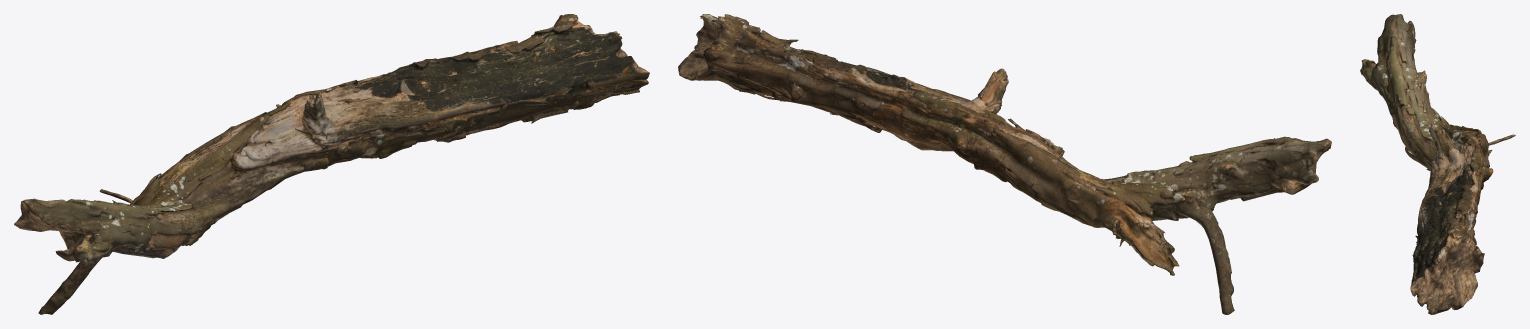
Rendered from dead_tree_trunk_02.glb.
3 renders of one model, left to right at view 1: azimuth 30°, elevation 25°; view 2: azimuth 150°, elevation 25°; view 3: azimuth 270°, elevation 25°, orthographic. The views are drawn at different scales.
Visible parts, largest first — view 1: dead_tree_trunk_02_mesh; view 2: dead_tree_trunk_02_mesh; view 3: dead_tree_trunk_02_mesh.
Boxes of the visible parts, box(x1,y1,x2,y2) form: dead_tree_trunk_02_mesh: box(14, 14, 649, 314); dead_tree_trunk_02_mesh: box(678, 14, 1331, 314); dead_tree_trunk_02_mesh: box(1360, 14, 1515, 314).
Size of the model in its own units: 4.05 by 1.05 by 1.05.
1 material, 1 textured.
